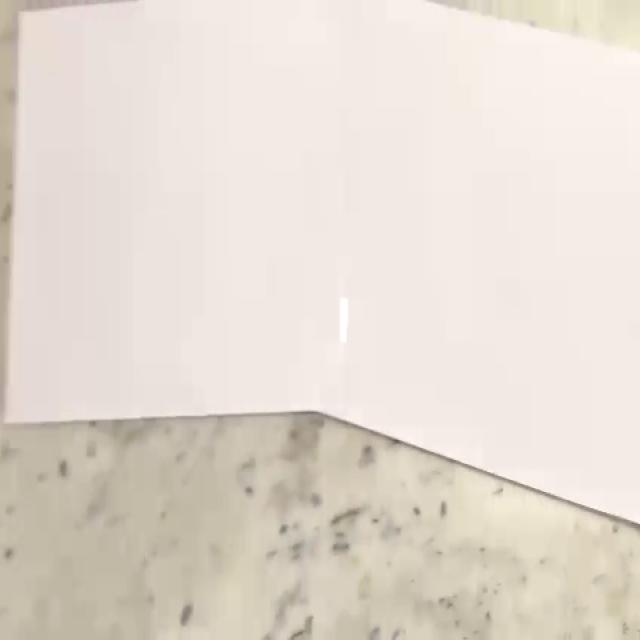road: (0, 0, 640, 528)
